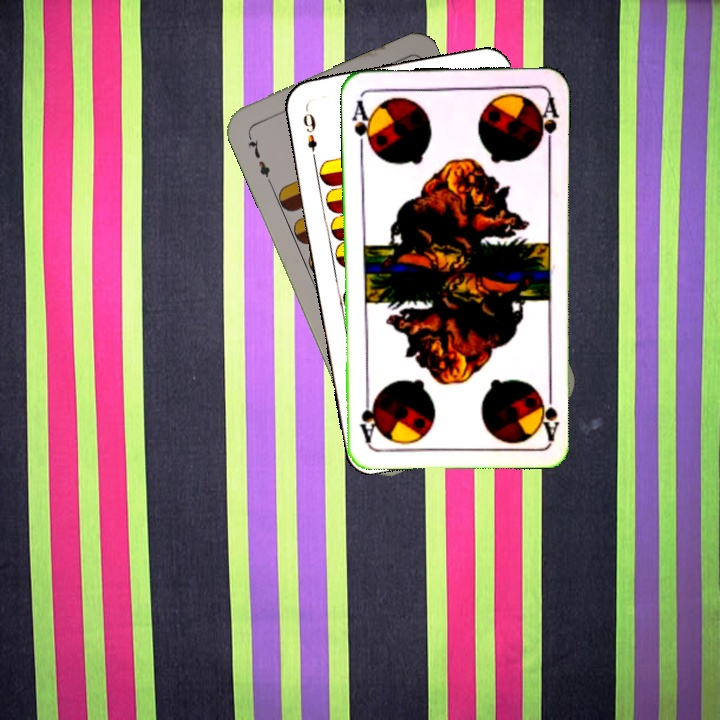E7: (243, 129, 274, 185)
E9: (299, 104, 320, 163)
SA: (348, 96, 376, 153), (537, 382, 562, 441)
